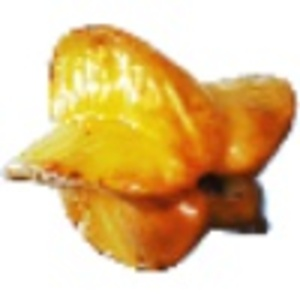carambola: (4, 23, 300, 275)
